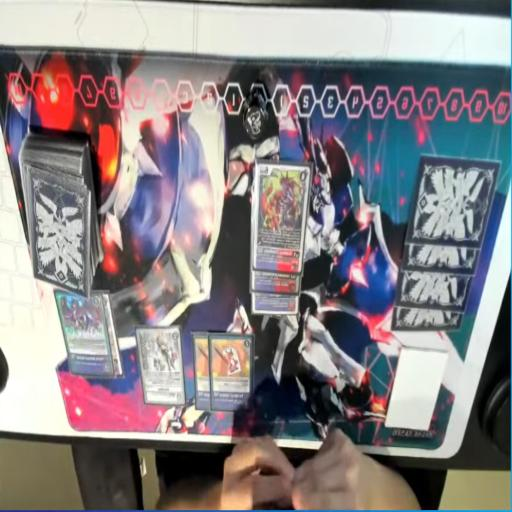card: (254, 159, 313, 271), (62, 286, 113, 378), (209, 330, 258, 424), (136, 326, 186, 408), (101, 285, 125, 376), (193, 330, 216, 412), (254, 268, 304, 292), (253, 290, 299, 313)
